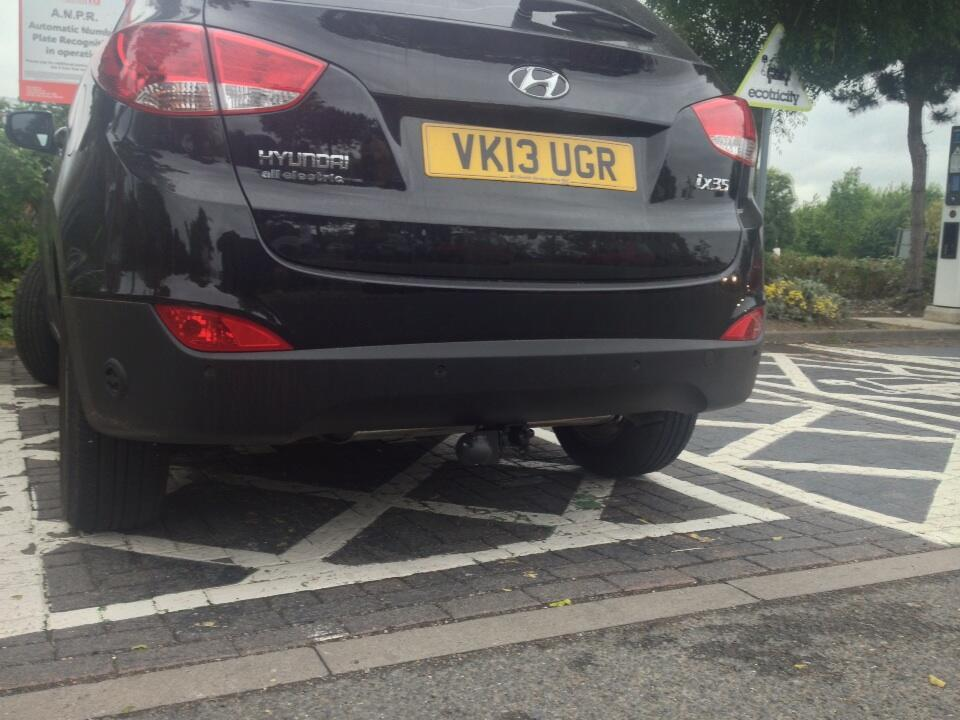car: (62, 1, 772, 543)
